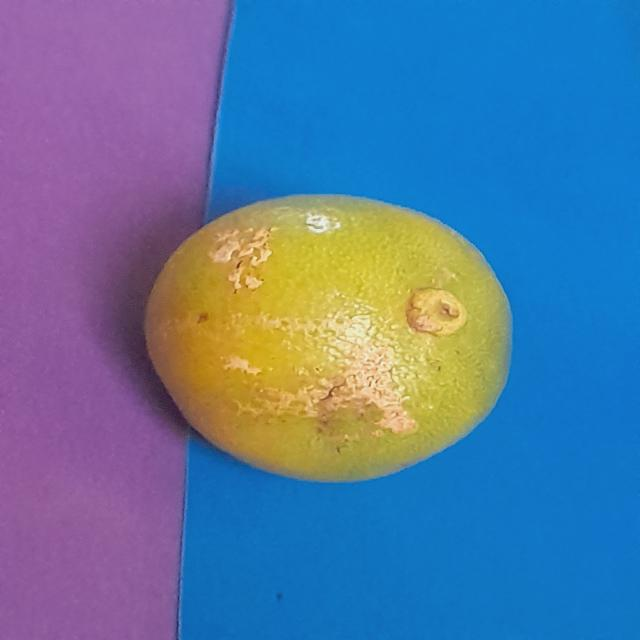thrips: (134, 185, 525, 506)
